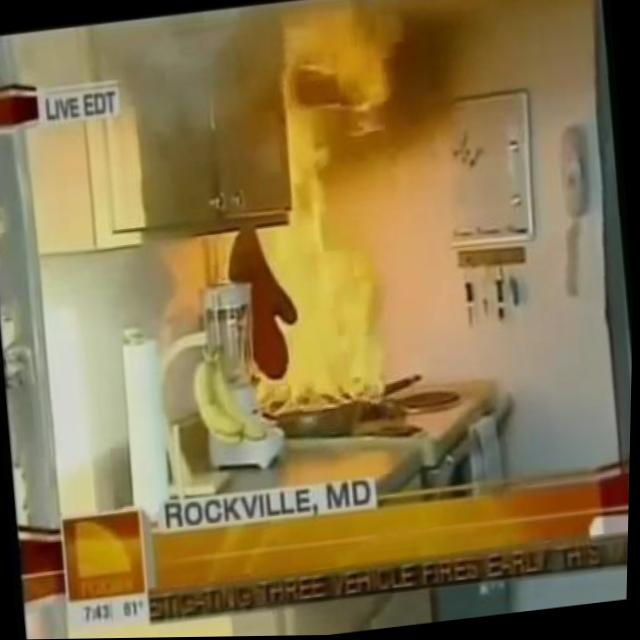fire: (199, 5, 426, 422)
